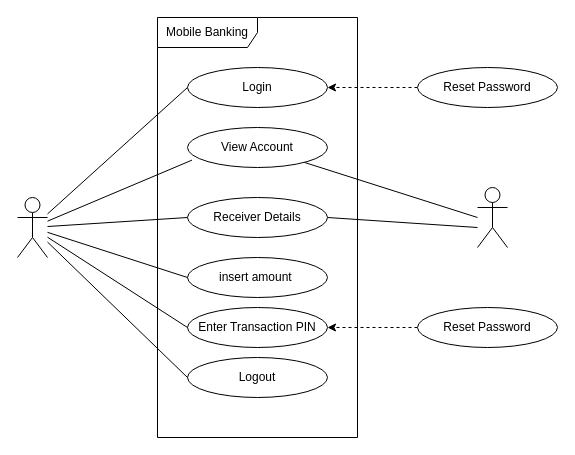
The diagram is 575 pixels wide and 455 high, and some of its shapes have lost their labels. Here are the shapes that lost their labels. From the top down, the centre of each, then its label:
point (32, 227): User
point (492, 217): Bank Employee
